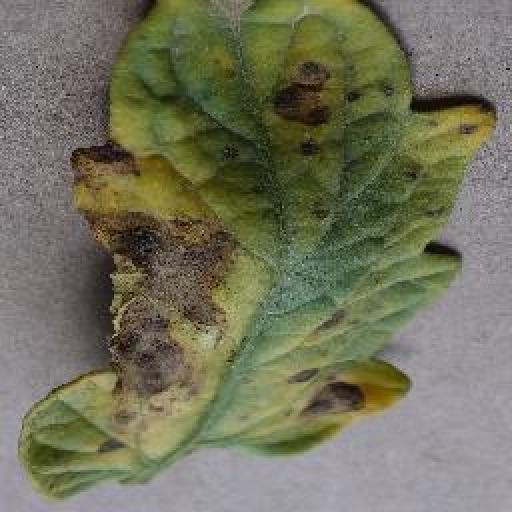Early Blight: (21, 0, 500, 500)
